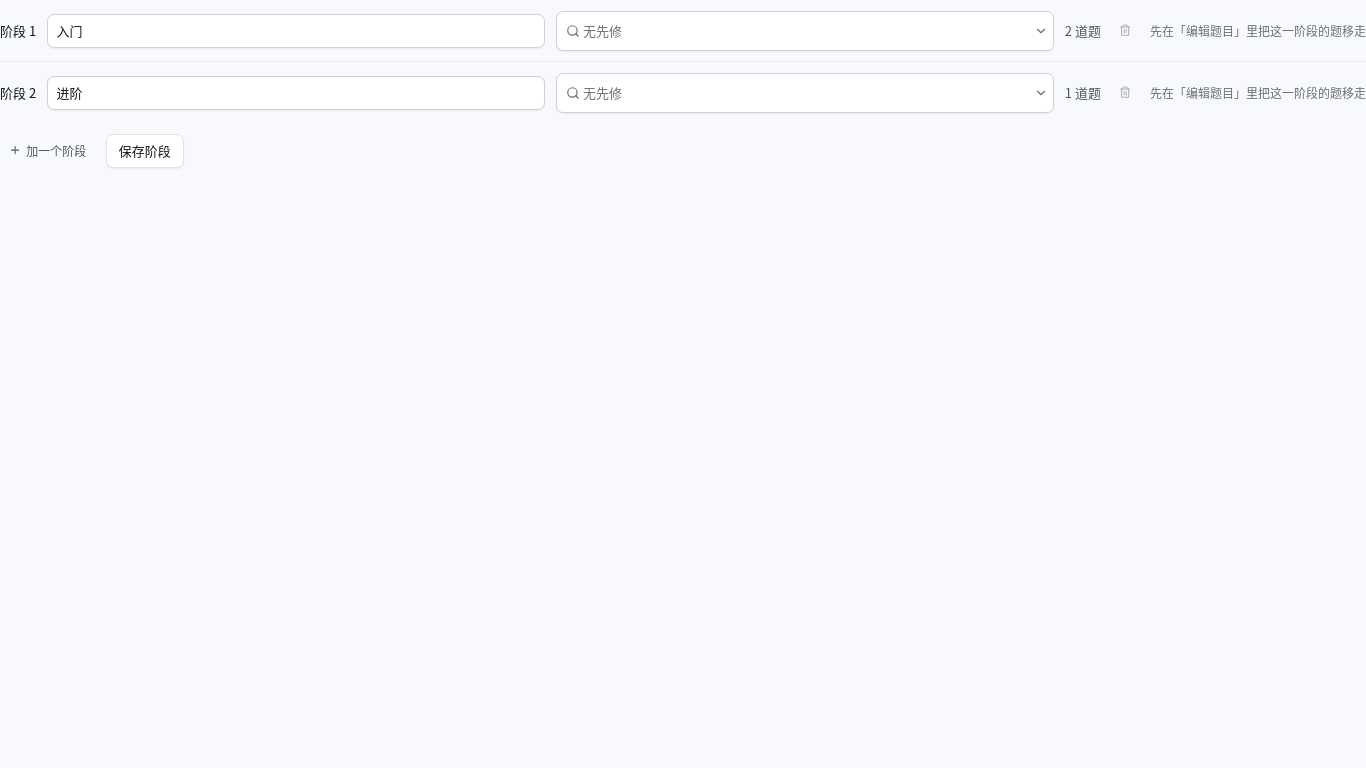
practice stage editor › keeps stage titles and a retry when the refresh after save fails
Expected: the button named "删除阶段 1" is shown, [1112,16,1140,44]
Replace the text in the field with placeholder "阶段名称" with "基础": (296, 30) [47,14,545,48]
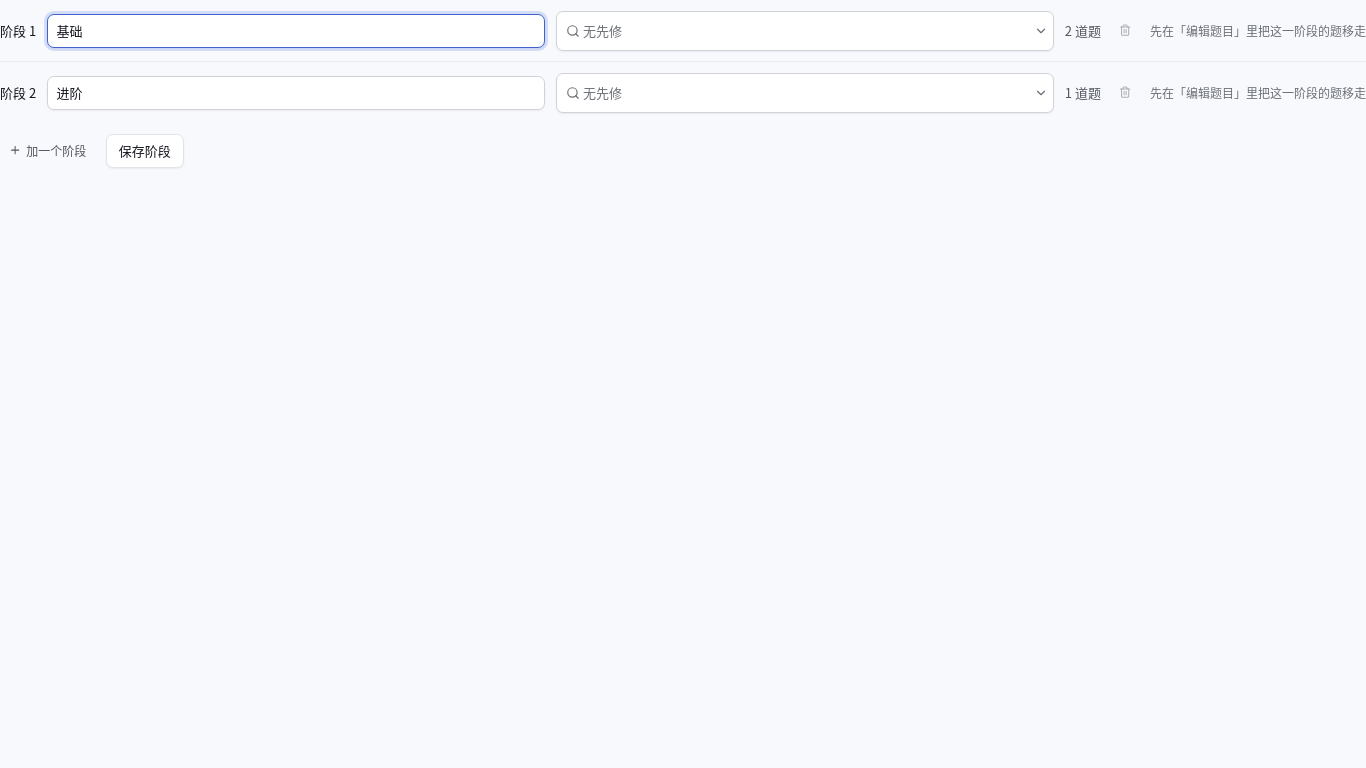
Click the button "保存阶段": (145, 150) [106,134,184,168]
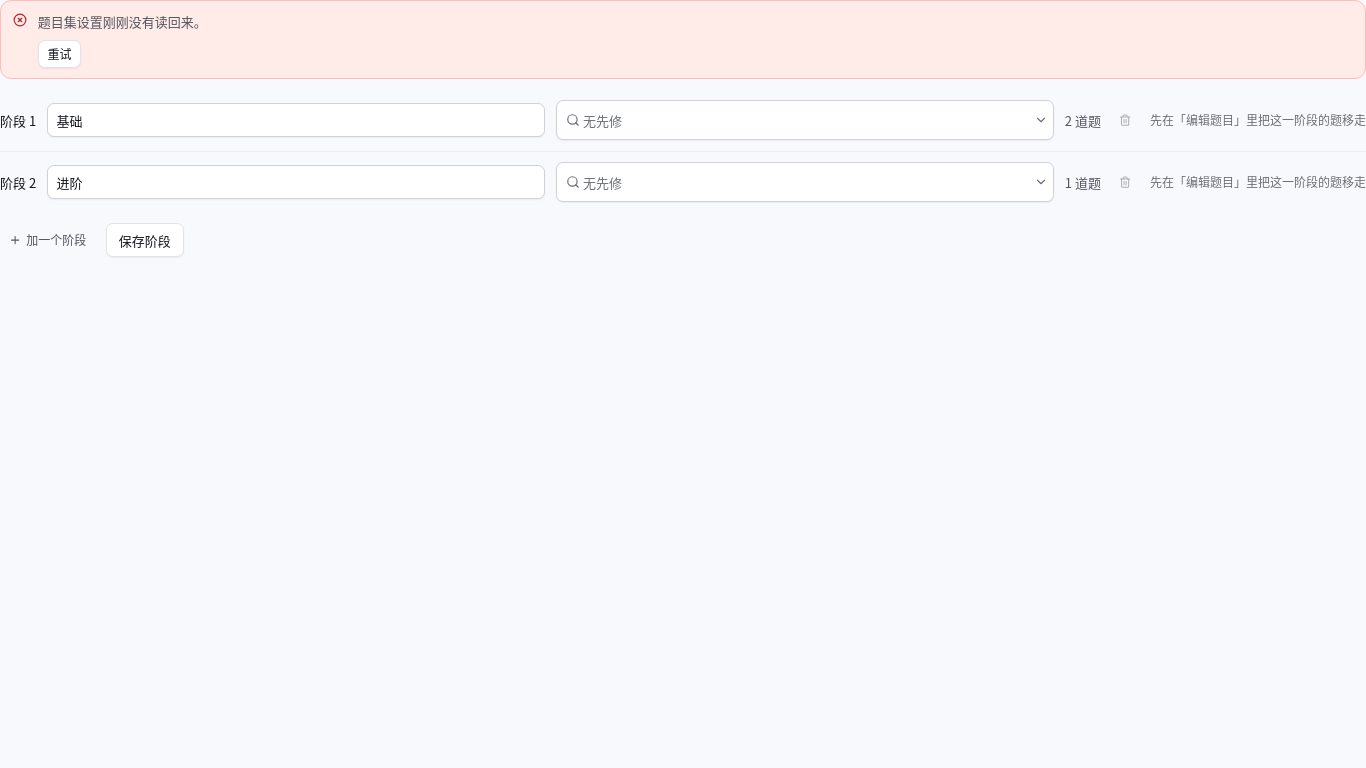
Expected: the button "重试" is shown, [38,40,81,68]
Replace the text in the field with placeholder "阶段名称" with "入门": (296, 120) [47,103,545,137]
(page scrolled)
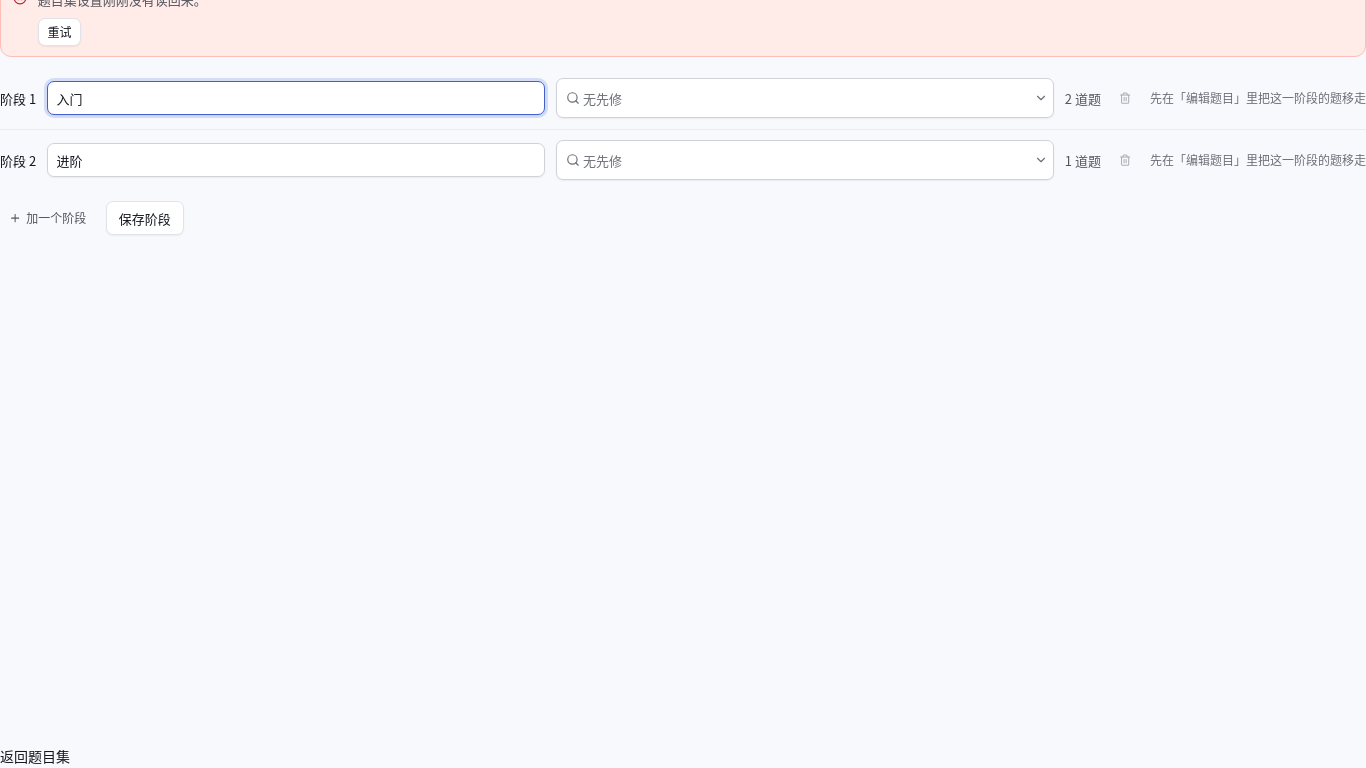
Click the link "返回题目集": (35, 756) [0,746,70,766]
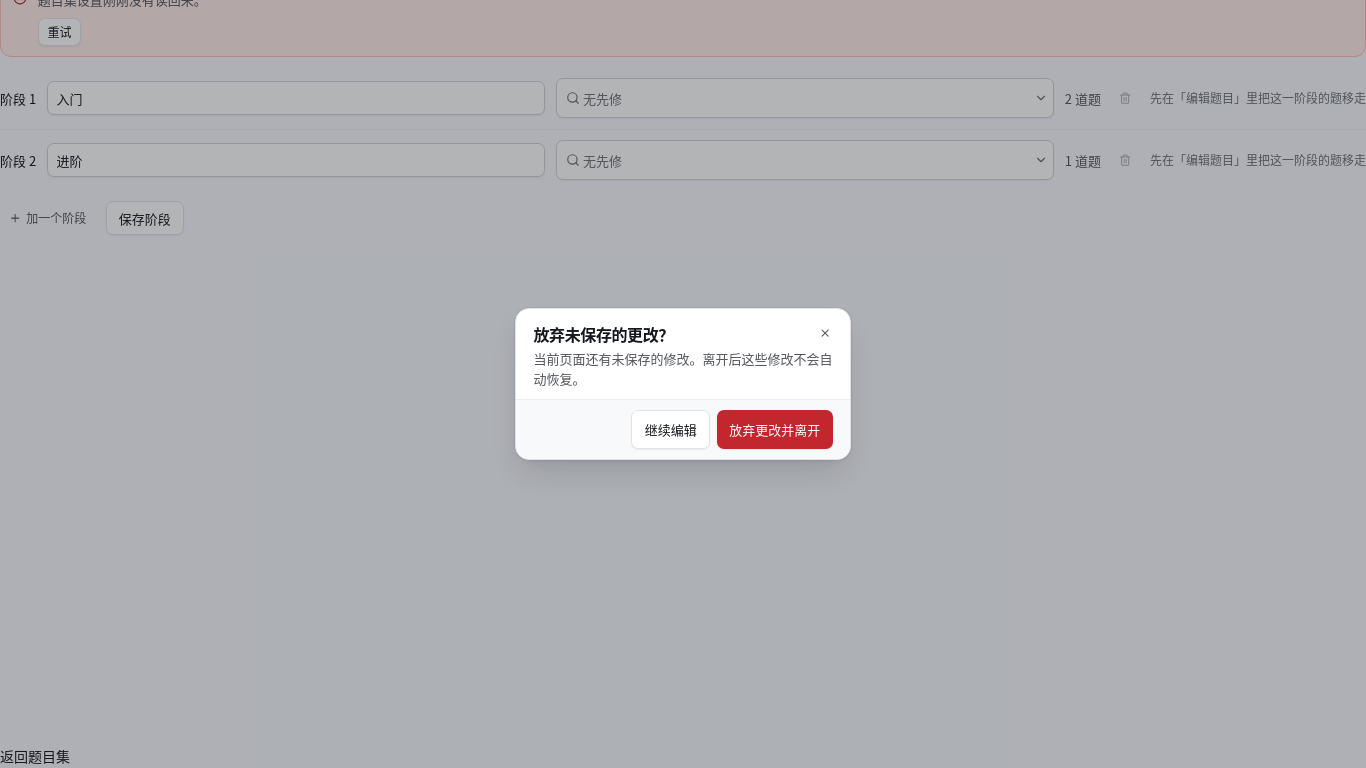
Expected: the dialog "放弃未保存的更改？" is shown, [515,308,851,460]
